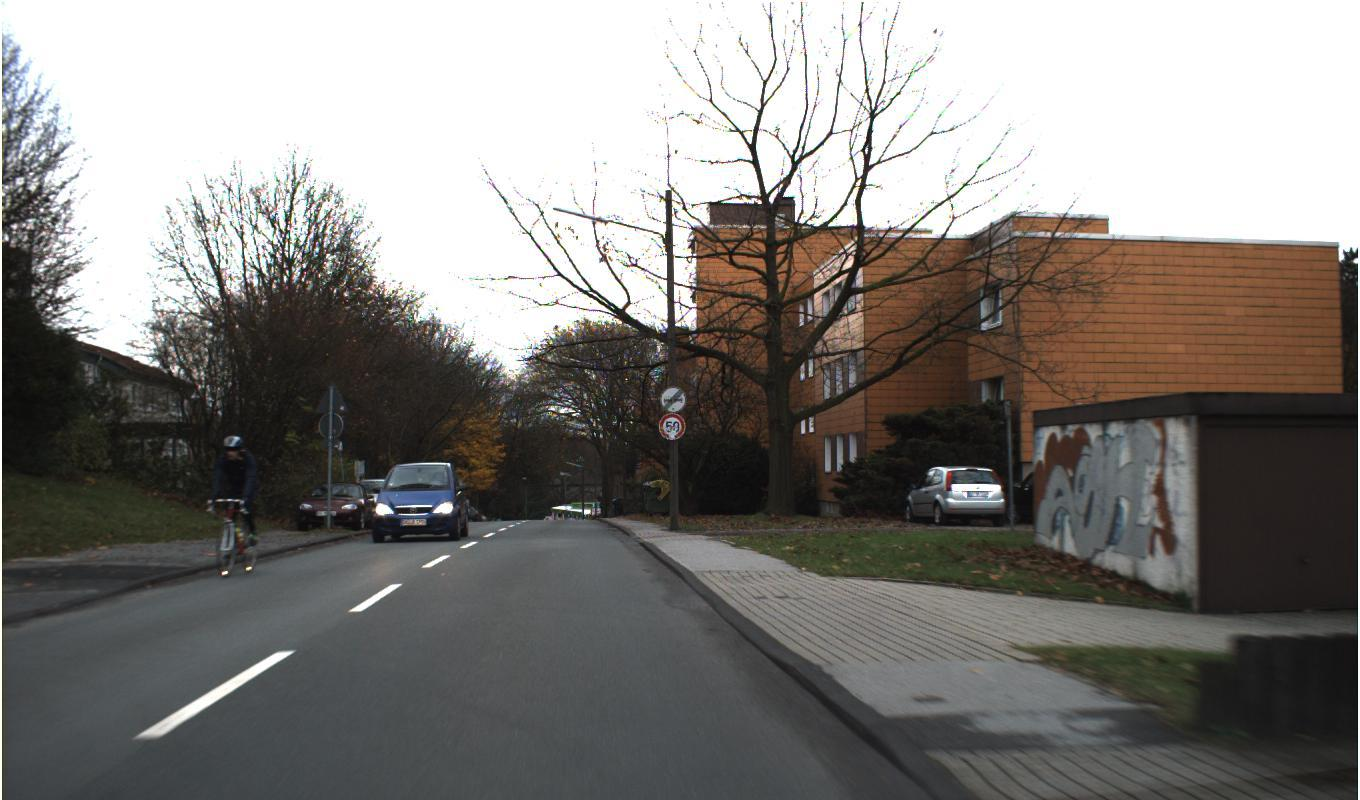41: (658, 385, 686, 414)
speed limit 50 prohibitory: (656, 412, 685, 441)
